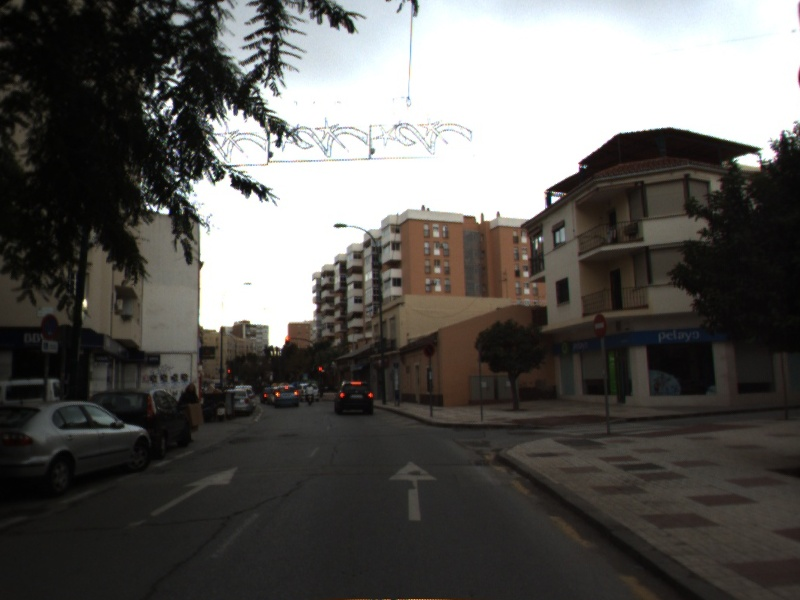STRAIGHT: (146, 463, 242, 519), (386, 458, 441, 524)
